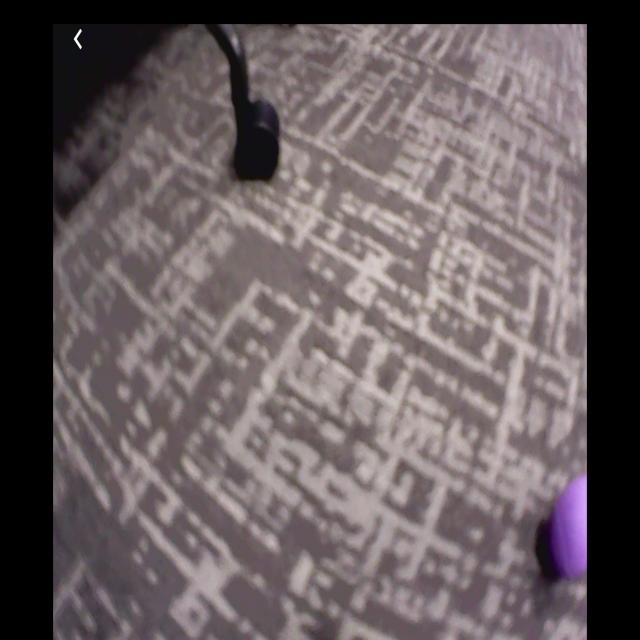ball: (535, 473, 588, 584)
